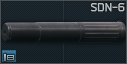AAC 762 SDN-6 7.62x51 sound suppressor: (0, 0, 127, 64)
